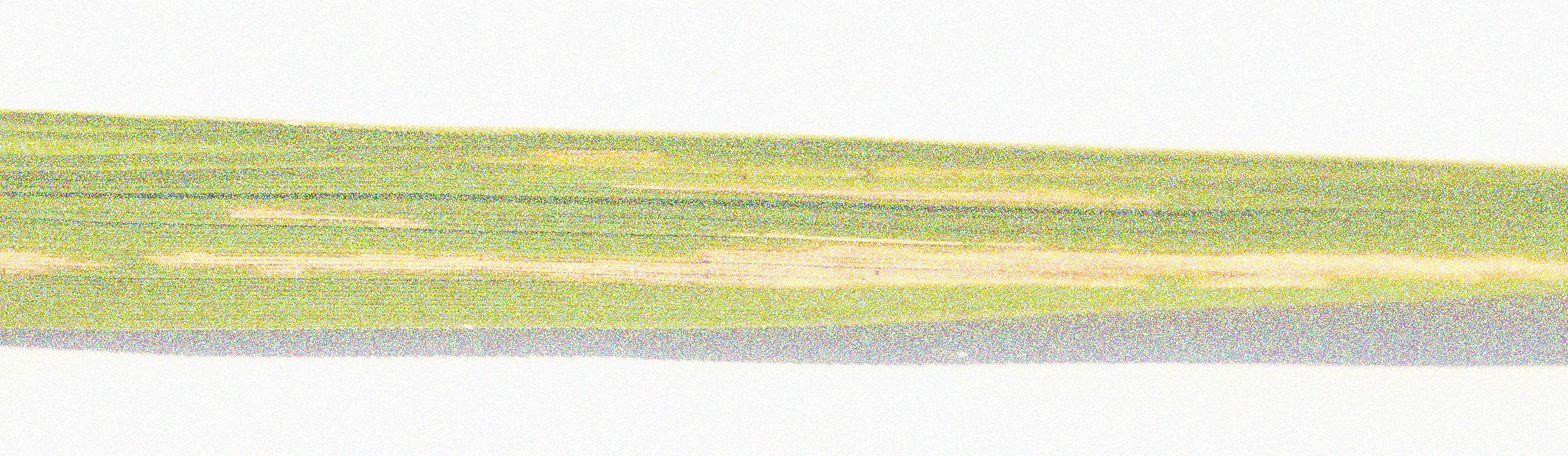Leaf_Blast: (166, 119, 1181, 249), (0, 223, 1563, 302)
